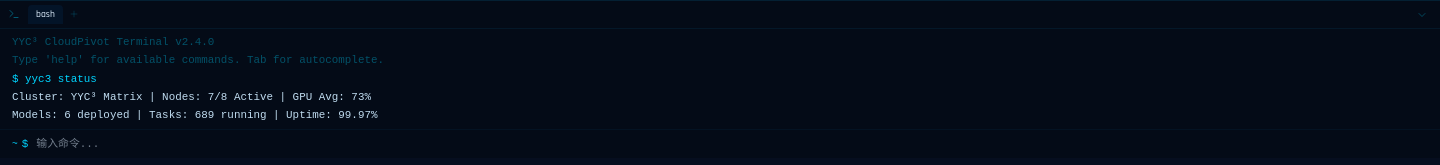
IDETerminal › 多 Tab 管理 › 新建 Tab 应显示新会话欢迎行
Step 1. Click the button titled "新建终端" → [74, 14], box [67, 8, 81, 22]
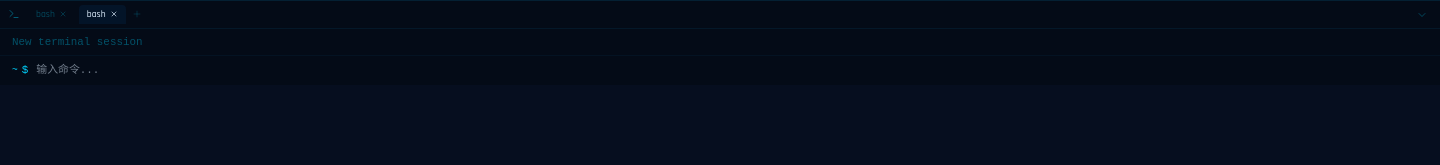
Expected: the text "New terminal session" is shown, [12, 36, 142, 48]
Expected: the text "bash" is shown 2 times, [36, 7, 55, 22]; [87, 7, 106, 22]
